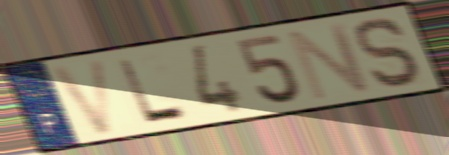4: (190, 40, 247, 116)
5: (232, 32, 303, 106)
L: (114, 56, 192, 125)
N: (283, 20, 375, 103)
S: (353, 15, 427, 90)
V: (47, 55, 118, 138)
